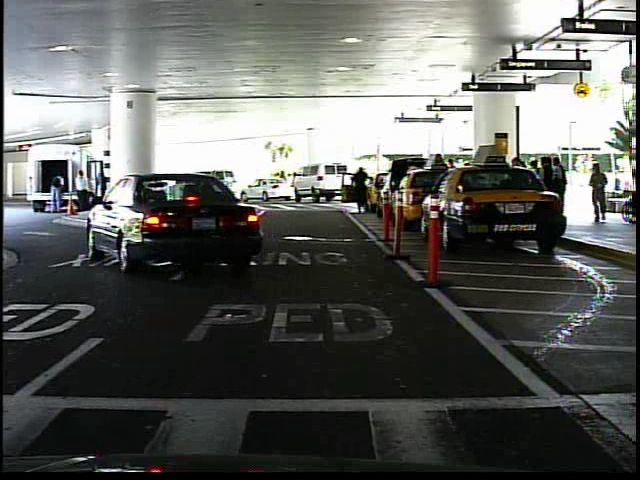person: (593, 162, 613, 227), (351, 165, 375, 218), (278, 168, 288, 178)
